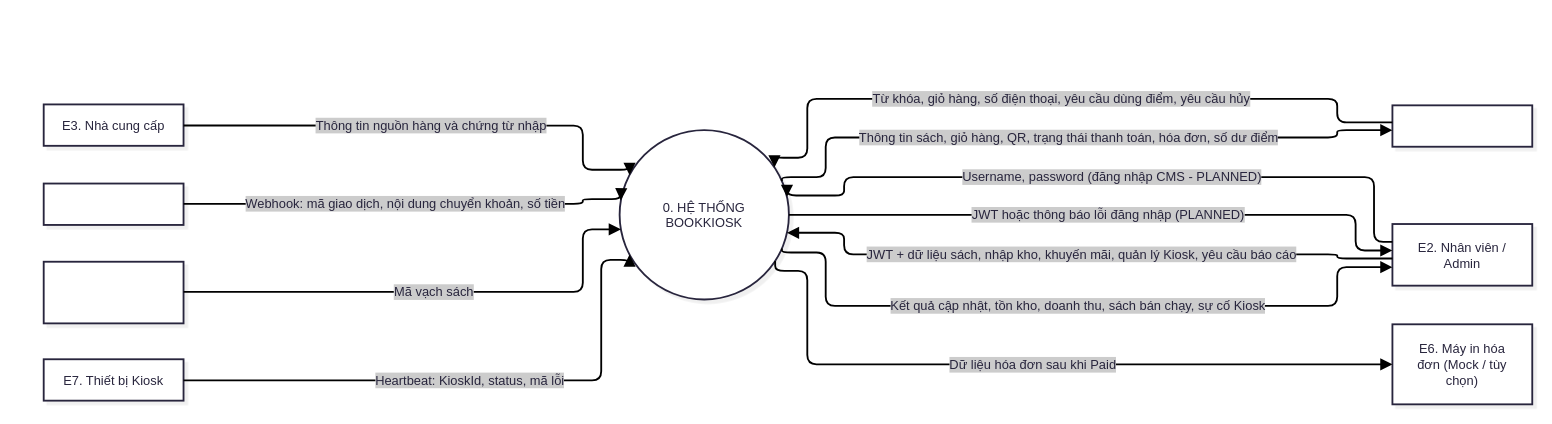
Some shapes in this 1552 by 424 pixel diagram are drawn without their labels. The shapes that lost their labels are listed below. From the top down, each one's centre as x and y in pixels, then its label:
[1463,127]: E1. Khách hàng
[115,205]: E4. SePay
[115,294]: E5. Máy quét mã vạch
